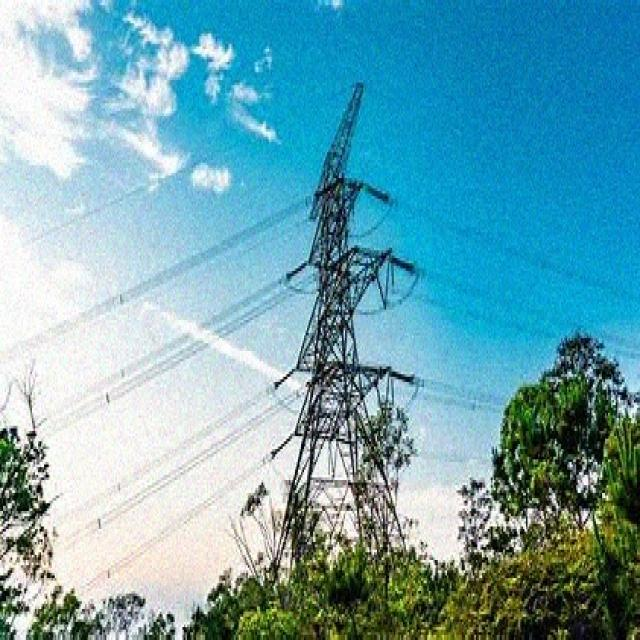utility poles: (489, 244, 624, 535), (334, 313, 432, 606)
